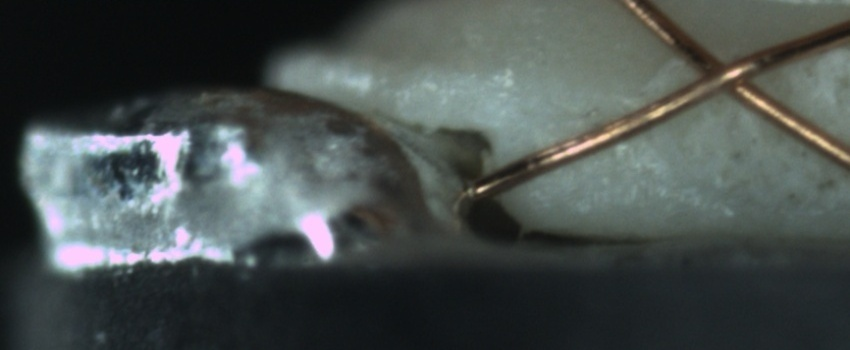CL: (675, 35, 779, 112)
